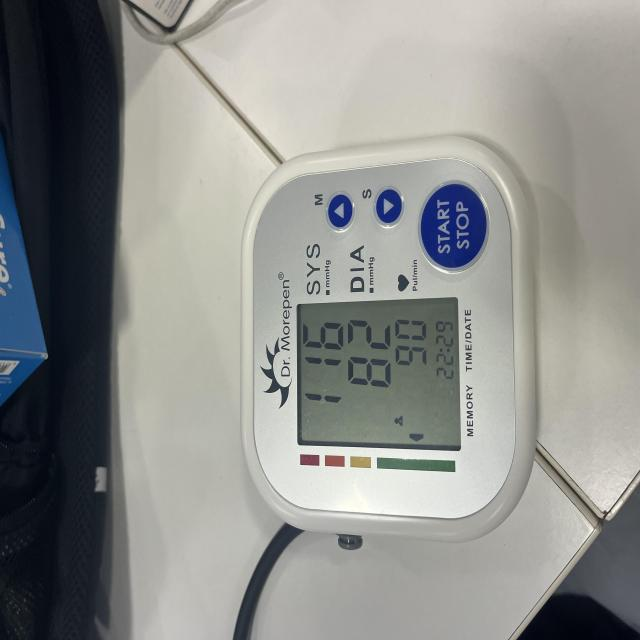bp: (232, 130, 548, 563)
